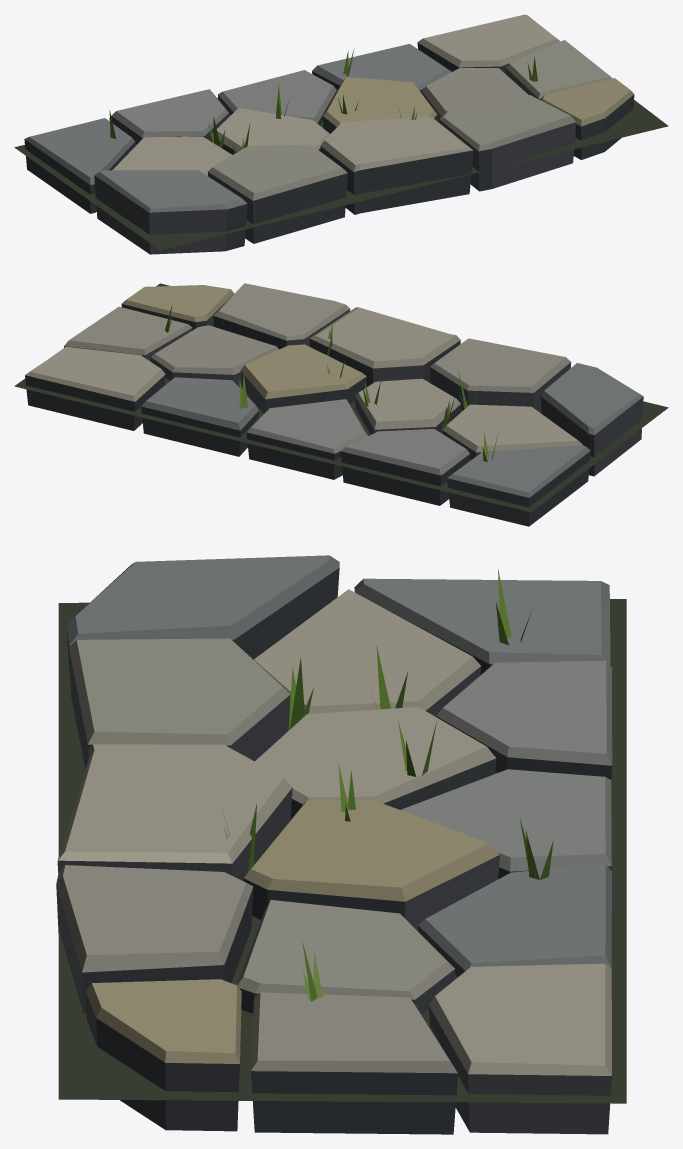
File: wf_rim_slabs.glb
The picture shows the model from 3 angles, top to bottom: view 1: azimuth 30°, elevation 25°; view 2: azimuth 150°, elevation 25°; view 3: azimuth 270°, elevation 25°; orthographic projection. The views are drawn at different scales.
Parts seen in each view (by area): view 1: wf_rim_slabs; view 2: wf_rim_slabs; view 3: wf_rim_slabs.
Part boxes in pixels (x1,y1,x2,y2): wf_rim_slabs: (14, 14, 668, 254); wf_rim_slabs: (14, 283, 668, 526); wf_rim_slabs: (56, 555, 626, 1134).
Size of the model in its own units: 6.2 by 0.7682 by 2.96.
